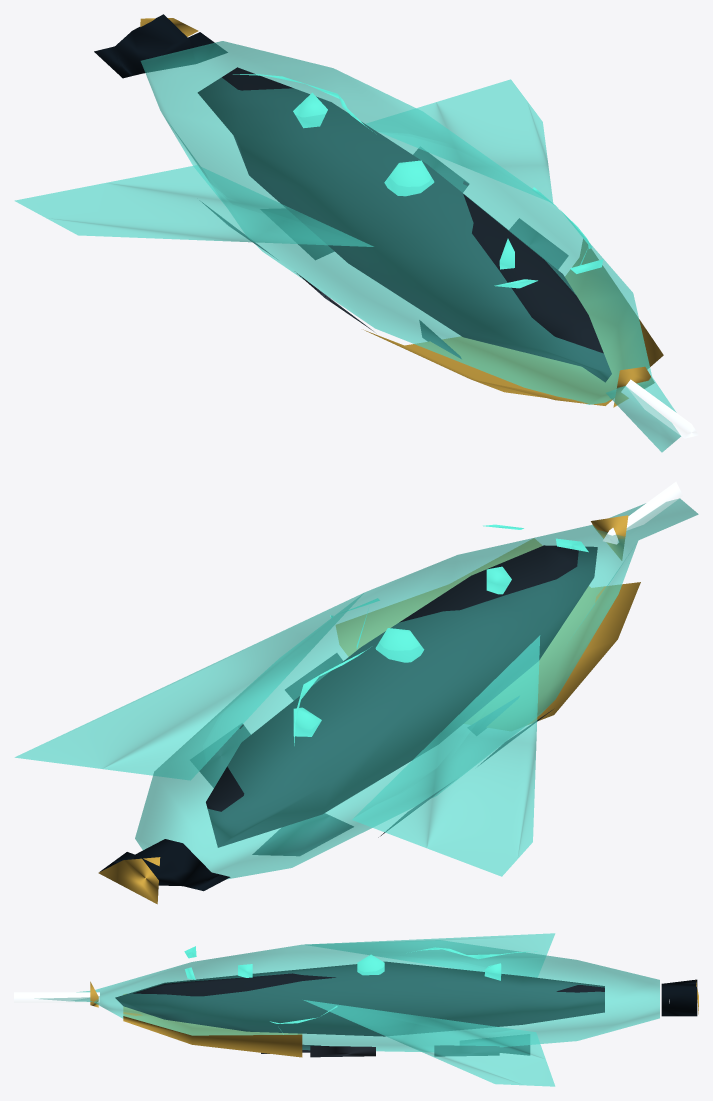
Rendered from refleks-swietlisci-coalition-33-lod2.glb.
The picture shows the model from 3 angles, top to bottom: view 1: azimuth 30°, elevation 25°; view 2: azimuth 150°, elevation 25°; view 3: azimuth 270°, elevation 25°; orthographic projection. The views are drawn at different scales.
Size of the model in its own units: 9.02 by 2.69 by 17.
